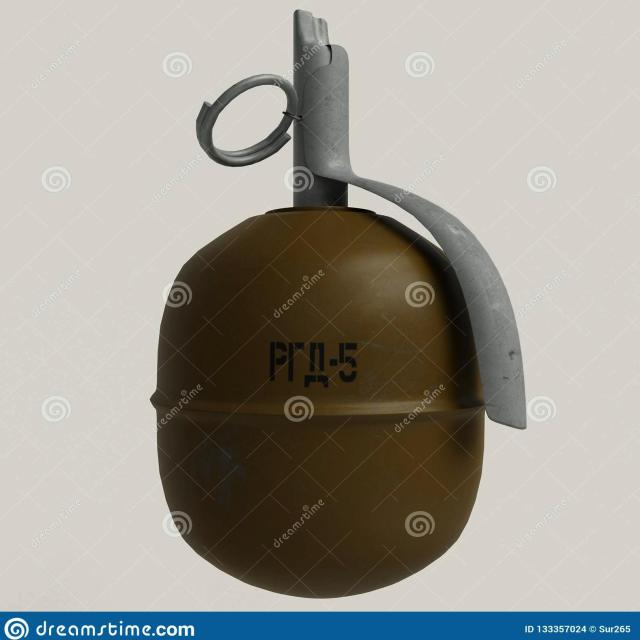grenade: (152, 12, 528, 599)
